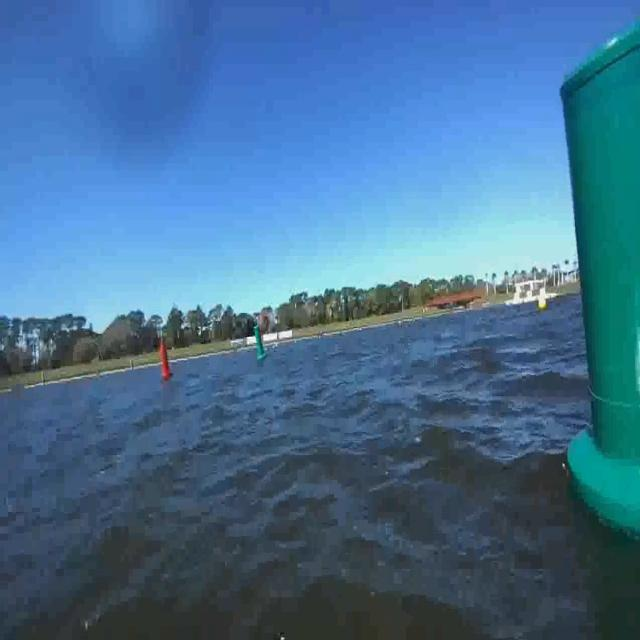green-column-buoy: (545, 11, 640, 534), (248, 309, 273, 370)
red-column-buoy: (152, 329, 180, 388)
